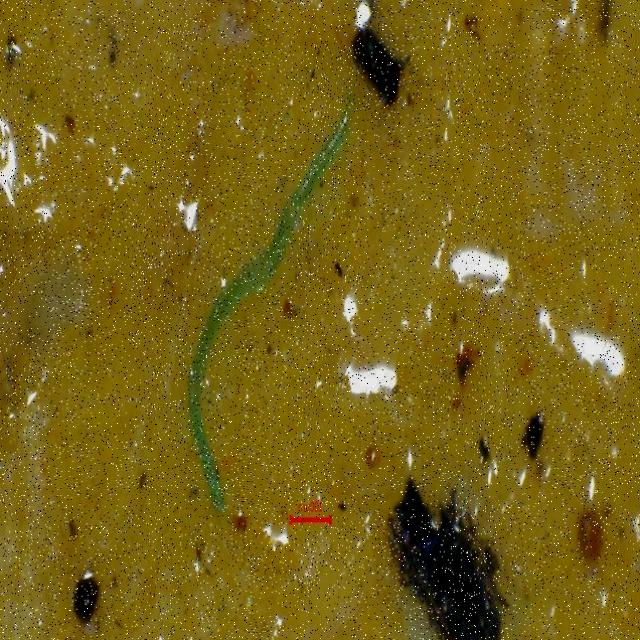Fibre: (182, 98, 358, 524)
